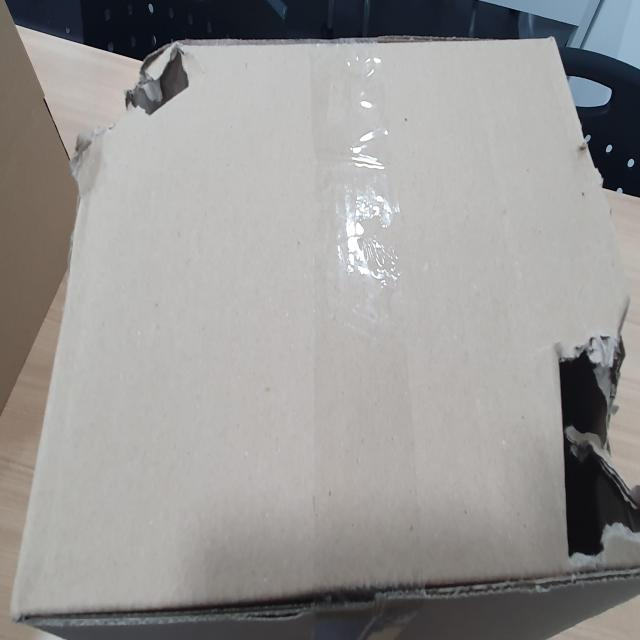damaged: (278, 201, 337, 343)
